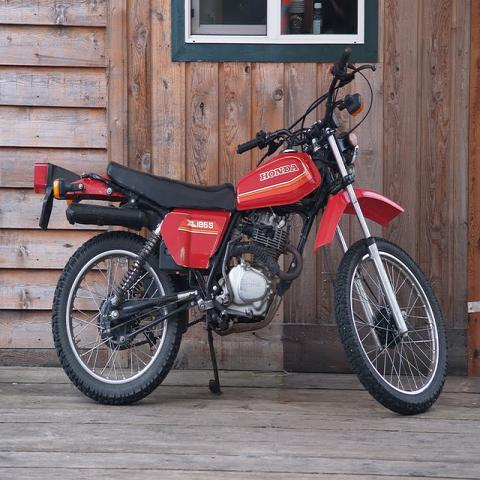motorcycle: (32, 38, 452, 418)
